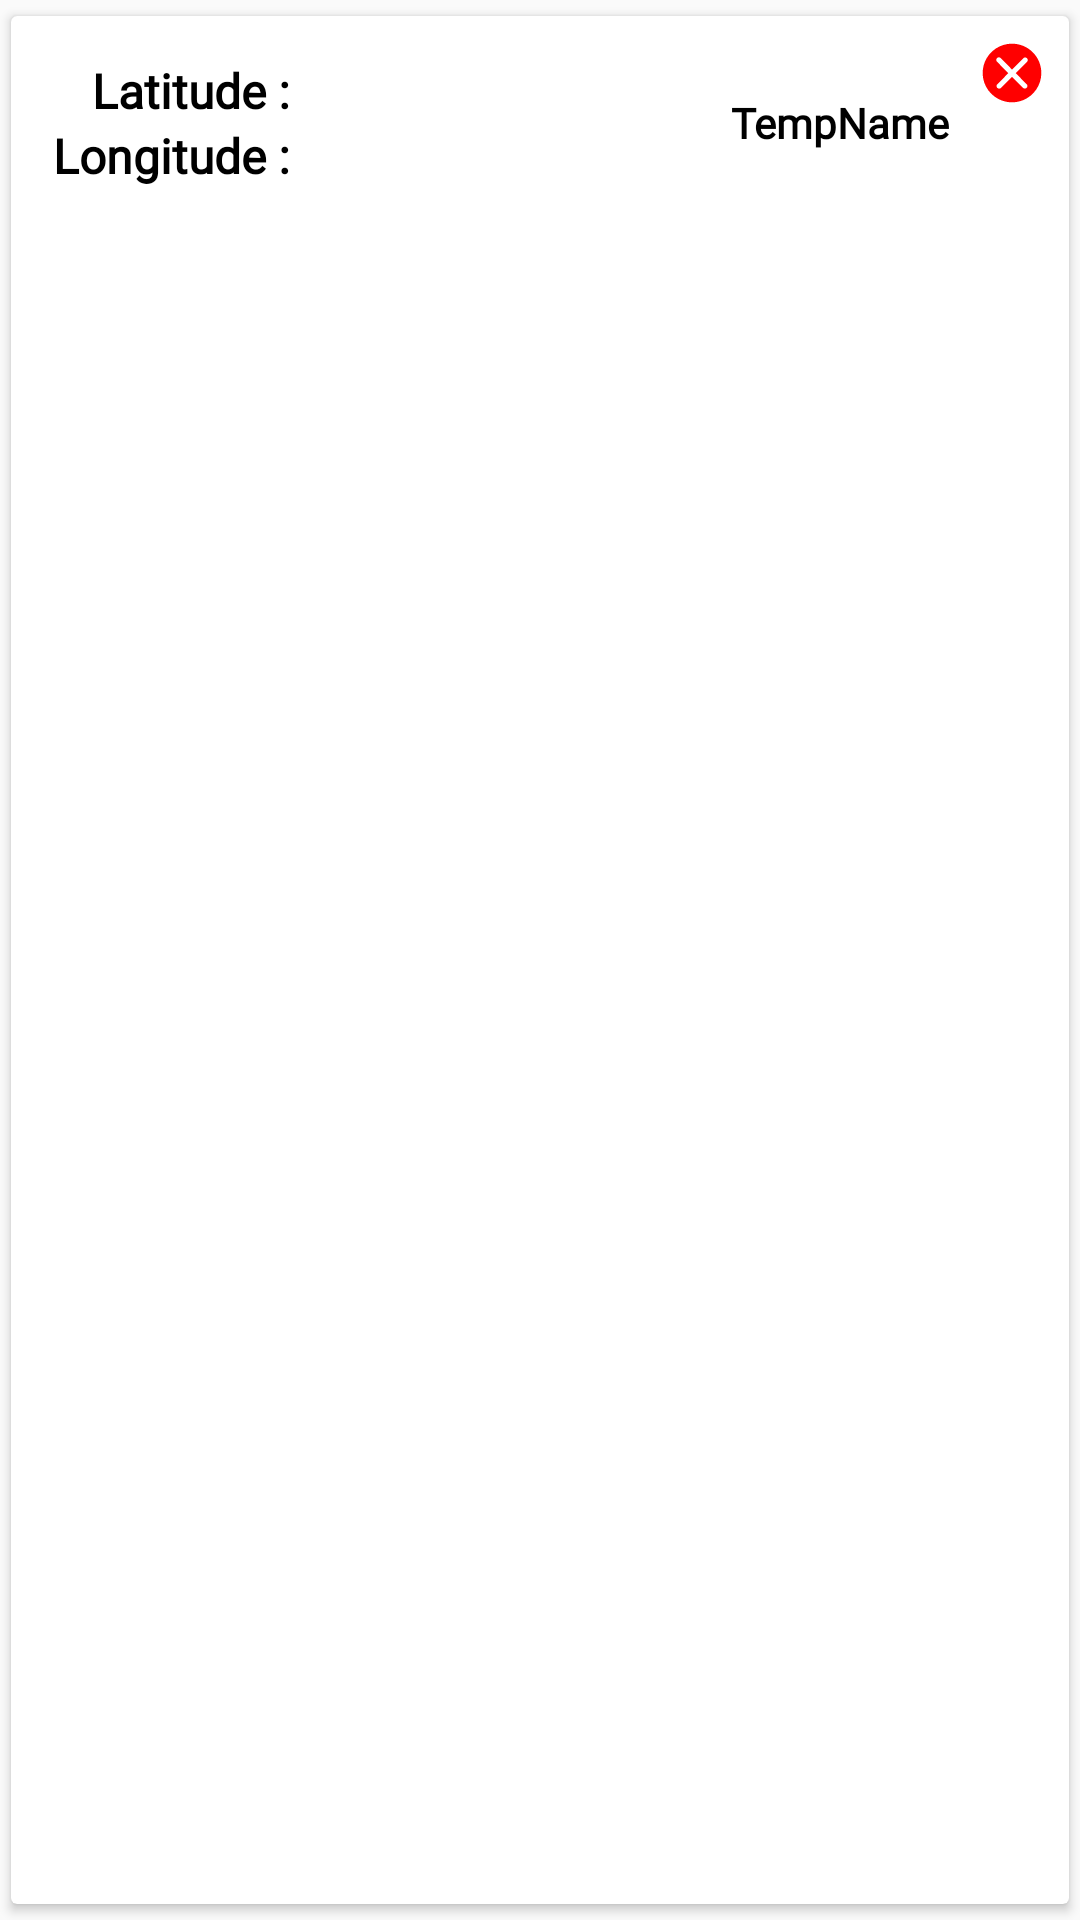

Named icons in this screenshot (1080x1920) and their centers, (x,y):
cancel: (1012,73)
